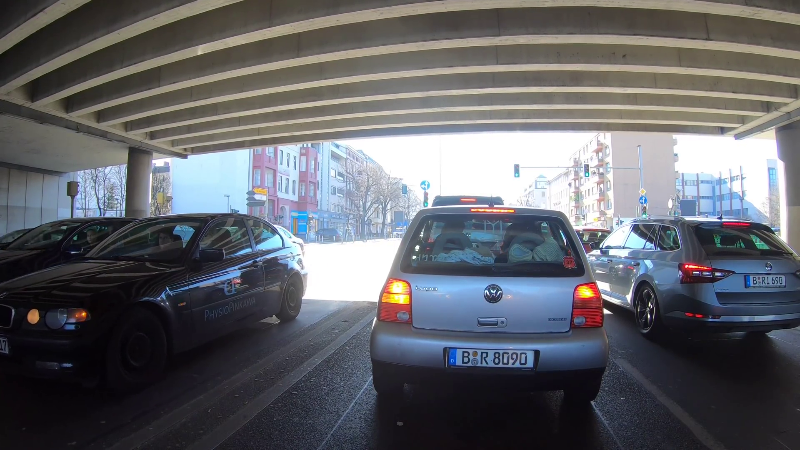Plate: (444, 343, 535, 370), (743, 273, 788, 289)
